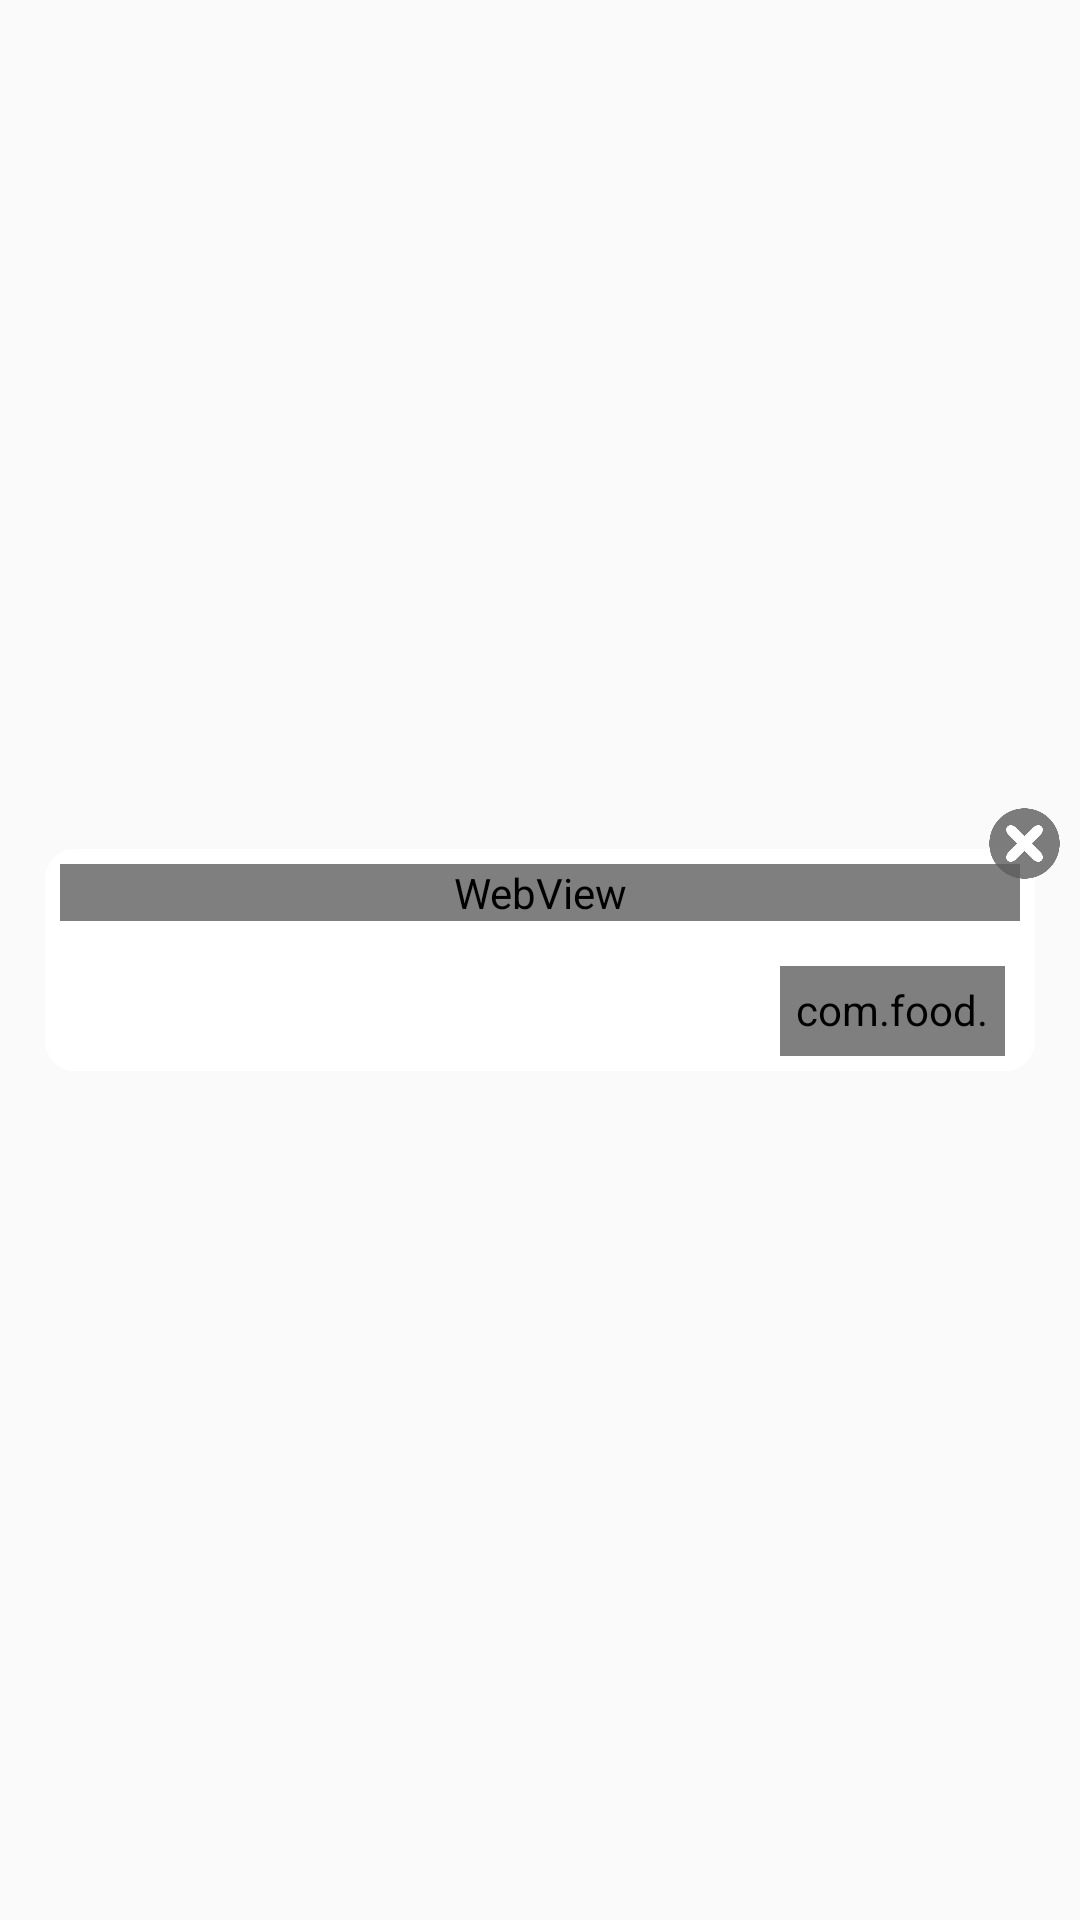

Locate icon controls on the screen. Image size 1080w x 1920h, boxes as Rect(x1, y1, x2, y2).
delete web: Rect(987, 808, 1060, 881)
